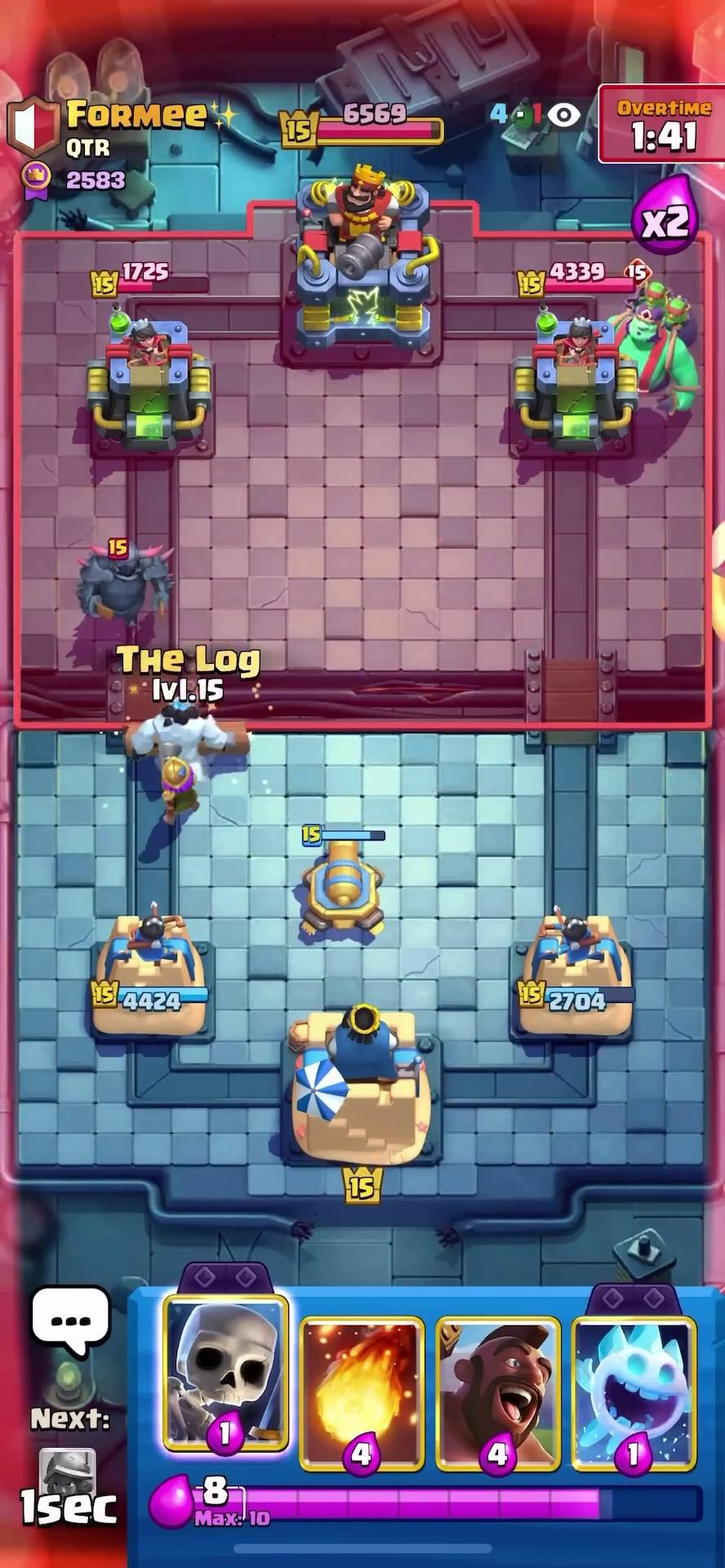cannon: (284, 823, 402, 943)
ice_golem: (135, 696, 216, 778)
musketeer: (143, 733, 200, 821)
